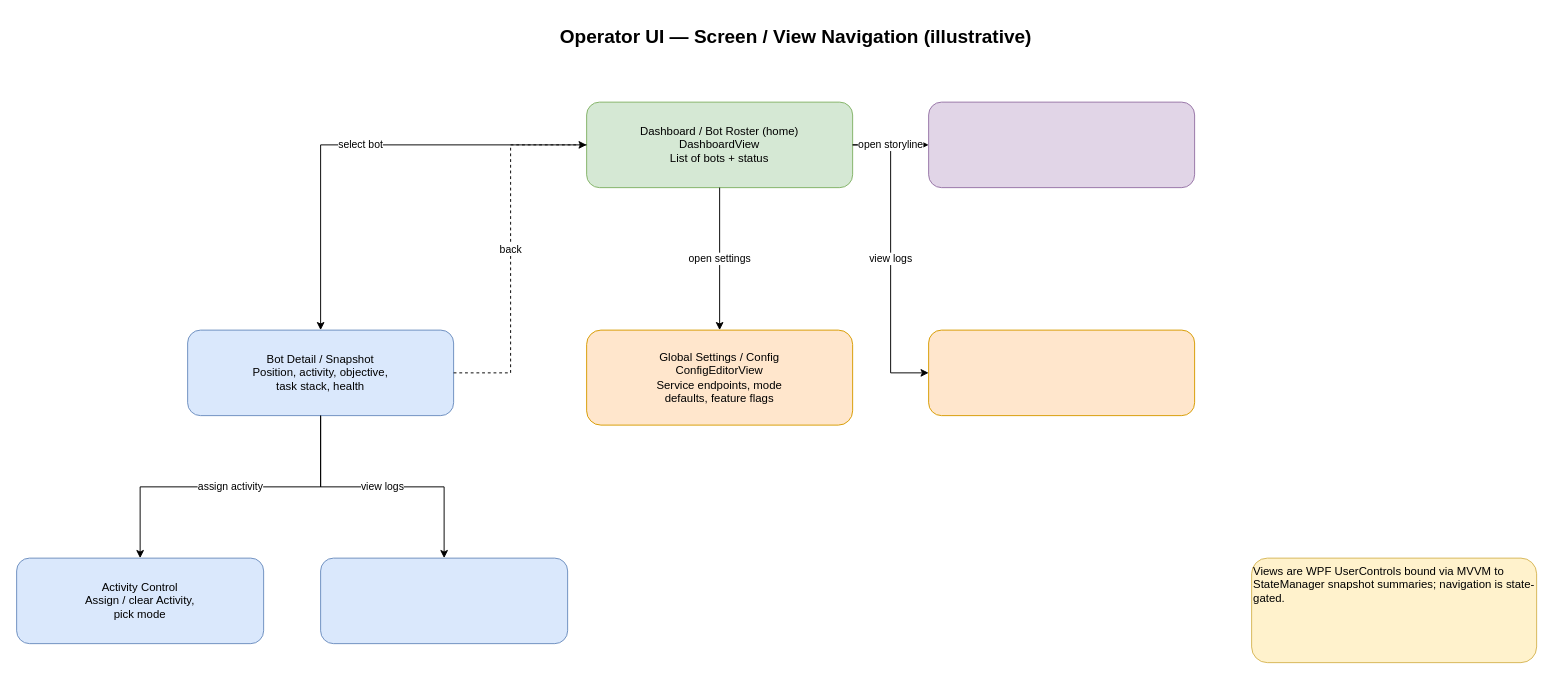
The diagram is 1553 pixels wide and 679 high, and some of its shapes have lost their labels. The centre of each missing label's shape, as x and y in pixels:
Log / Console (per-bot) Per-bot logs: point 444,600
Logs View (all-bot) Aggregated logs: point 1061,372
StorylineManager (separate app) Quest / storyline progression: point 1061,144
